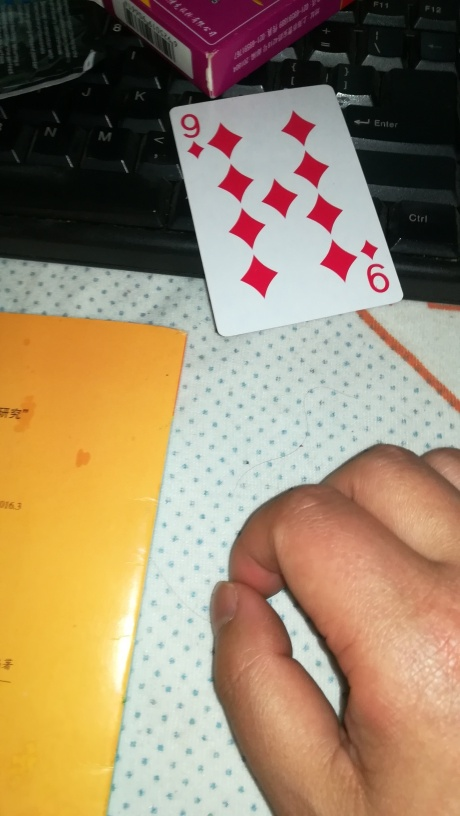fk 9: (167, 86, 407, 338)
